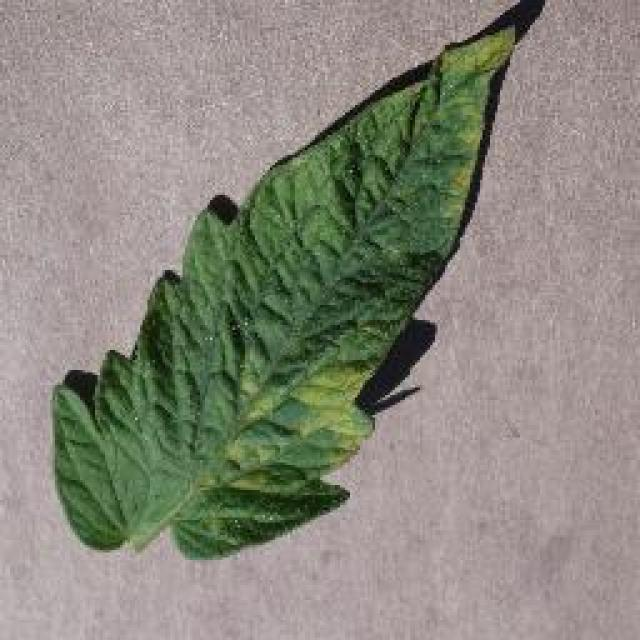Tomato mold leaf: (50, 28, 518, 562)
